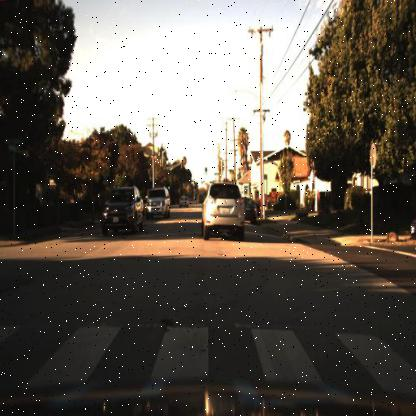car: (97, 180, 148, 240), (200, 178, 244, 240), (147, 182, 170, 224), (242, 186, 258, 228), (175, 192, 190, 210)
trafficLight-Green: (204, 163, 209, 176)
